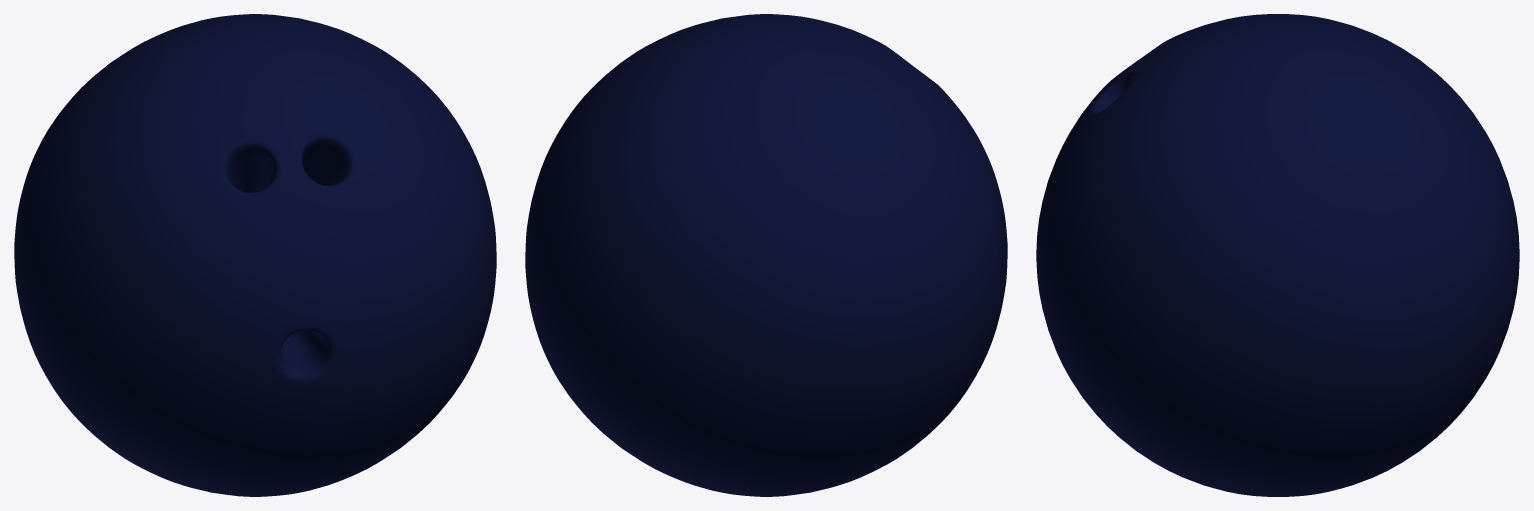
Rendered from Bola de boliche.glb.
3 renders of one model, left to right at view 1: azimuth 30°, elevation 25°; view 2: azimuth 150°, elevation 25°; view 3: azimuth 270°, elevation 25°, orthographic.
Parts seen in each view (by area): view 1: Icosphere_2; view 2: Icosphere_2; view 3: Icosphere_2.
Part boxes in pixels (x1,y1,x2,y2): Icosphere_2: [14, 14, 496, 496]; Icosphere_2: [525, 14, 1007, 496]; Icosphere_2: [1036, 14, 1519, 496].
Bounding box in the file's own units: 0.2743 × 0.2758 × 0.2745.
